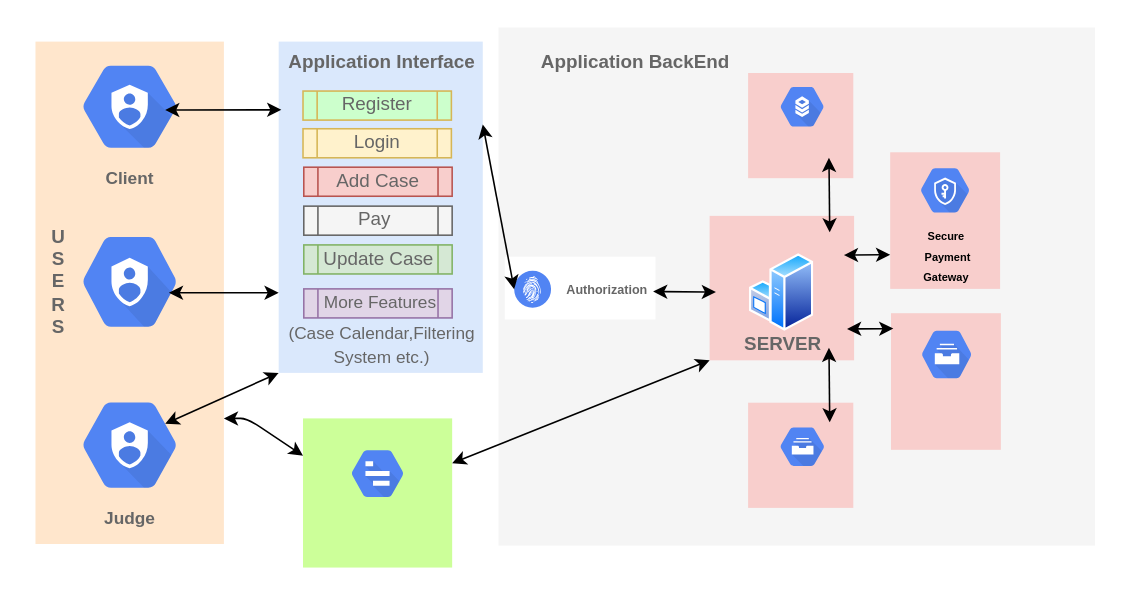
Some shapes in this 1121 by 593 pixel diagram are drawn without their labels. The shapes that lost their labels are listed below. From the top down, each one's box as (x1, y1, x2, y2) in pixels, then its label:
(769, 77, 834, 135): Case DataBase
(58, 215, 200, 347): Lawyer
(908, 319, 983, 389): Lawyers, Jugdes and Court DataBase
(768, 418, 835, 474): Client DataBase
(338, 438, 416, 507): Auto Reminders (Mail/SMS)
